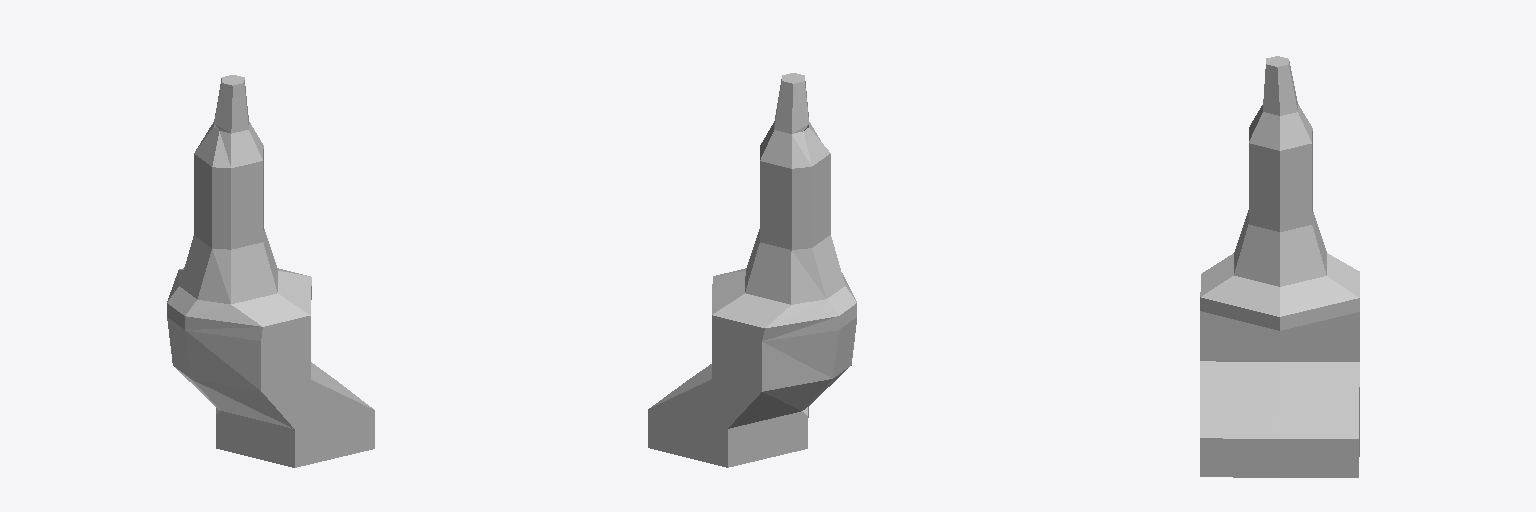
File: Pillar.obj
3 views of the same model, side by side, from view 1: azimuth 30°, elevation 25°; view 2: azimuth 150°, elevation 25°; view 3: azimuth 270°, elevation 25° (orthographic).
Parts seen in each view (by area): view 1: Pillar; view 2: Pillar; view 3: Pillar.
Boxes of the visible parts, box(x1,y1,x2,y2) form: Pillar: box(167, 75, 374, 467); Pillar: box(648, 73, 856, 467); Pillar: box(1200, 56, 1359, 477).
Size of the model in its own units: 6.04 by 13.15 by 5.24.